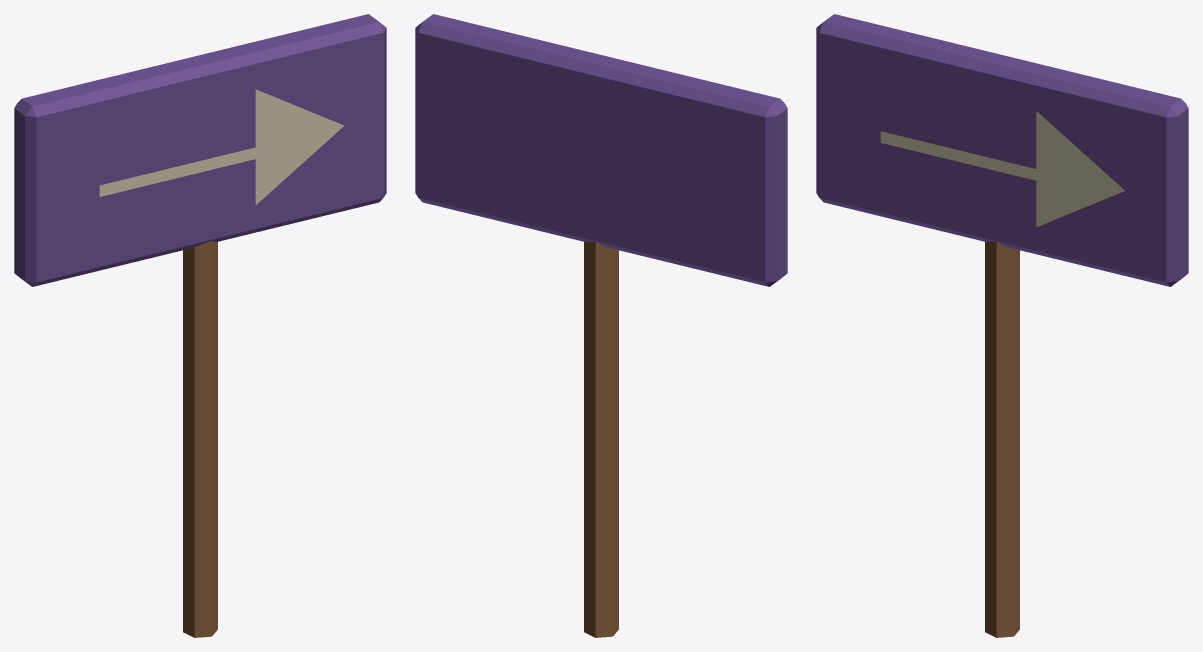
File: snow-sign.glb
3 views of the same model, side by side, from view 1: azimuth 30°, elevation 25°; view 2: azimuth 150°, elevation 25°; view 3: azimuth 330°, elevation 25° (orthographic).
Parts seen in each view (by area): view 1: snow_sign; view 2: snow_sign; view 3: snow_sign.
Boxes of the visible parts, box(x1,y1,x2,y2) form: snow_sign: box(14, 14, 386, 637); snow_sign: box(415, 14, 787, 637); snow_sign: box(816, 14, 1188, 637).
Bounding box in the file's own units: 1.3 × 1.96 × 0.126.
